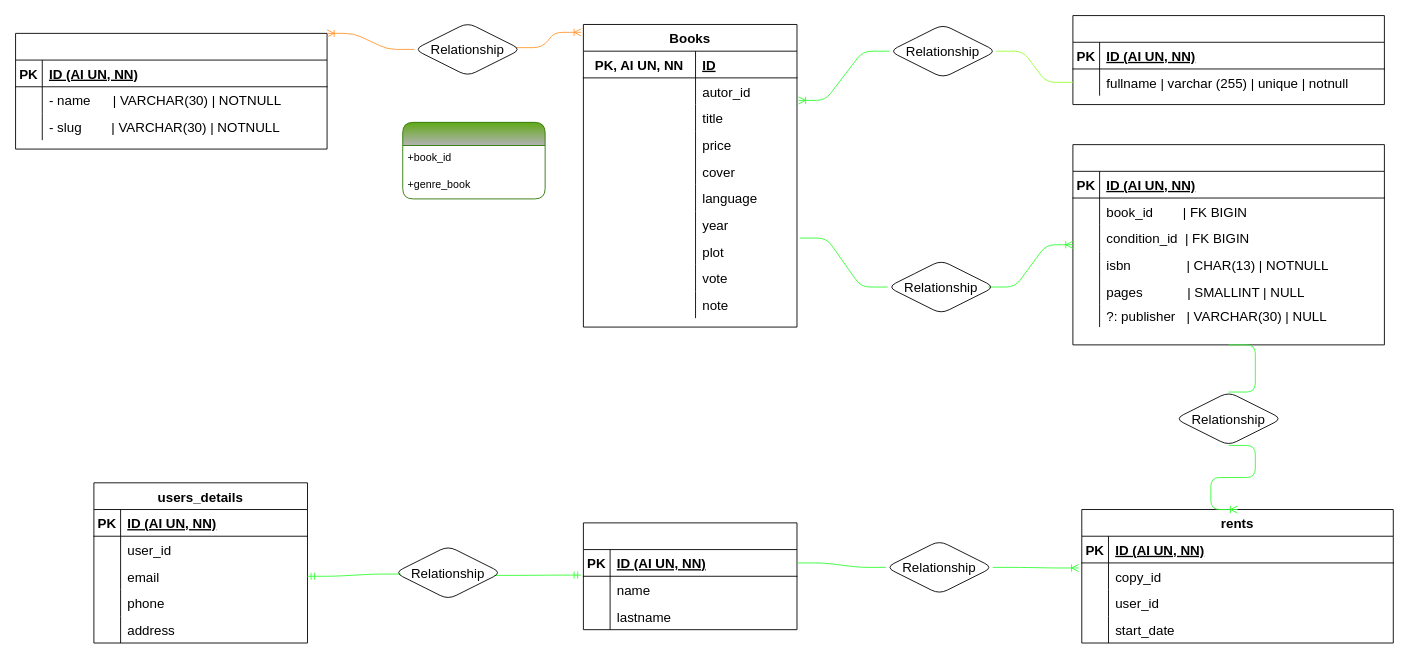
The diagram is 1409 pixels wide and 659 high, and some of its shapes have lost their labels. The box of each missing label's shape, as (x1, y1, x2, y2) in pixels:
Autors: (1072, 15, 1384, 105)
book_genre: (402, 121, 545, 199)
Copies: (1072, 144, 1384, 345)
Genres: (15, 32, 327, 149)
users: (583, 522, 797, 630)
